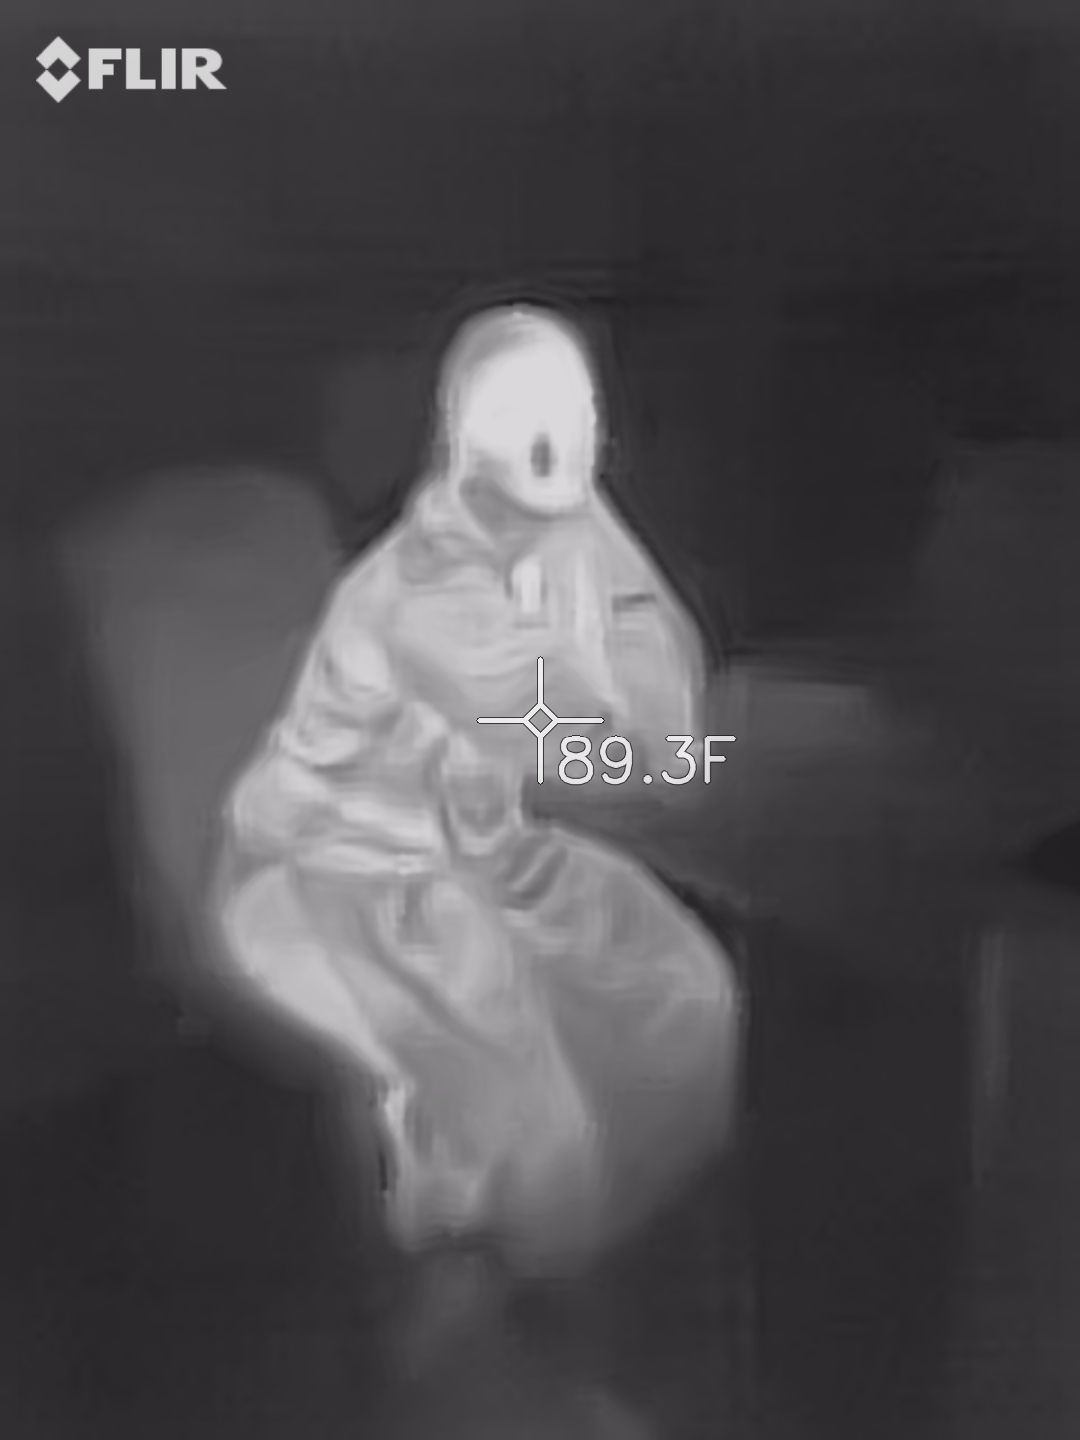head: (425, 299, 627, 538)
